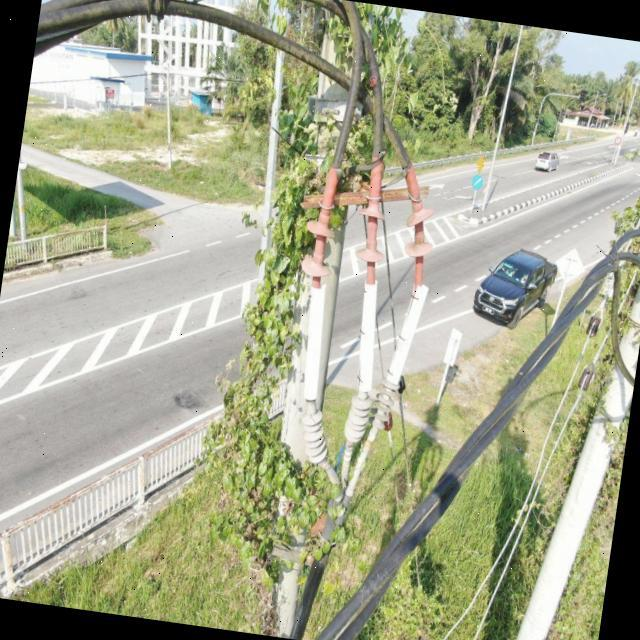critical vegetation: (172, 0, 429, 598)
